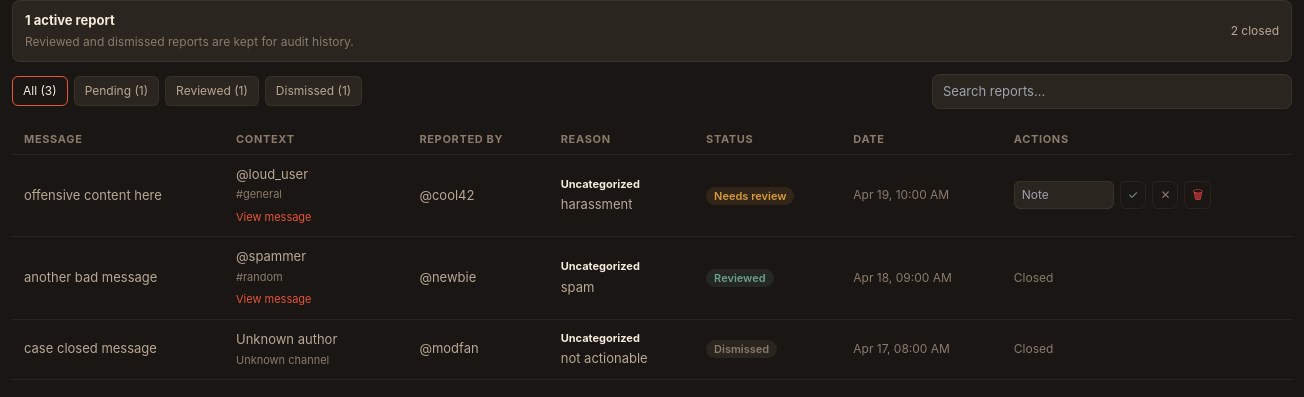
Test: ReportsTable — filtering › searches by message content
The width and height of the screenshot is (1304, 397).
Type "closed" into the field with class "report-search". click: (1112, 91)
box: [932, 74, 1292, 109]
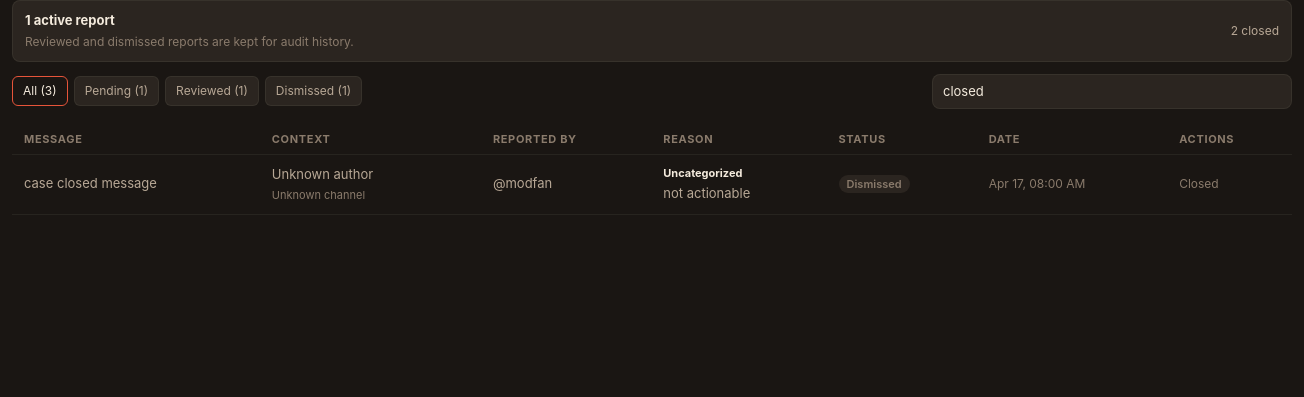
Expected: the text "case closed message" is shown, [24, 175, 157, 191]
Now the number of rows with class "report-row" is 1, box [12, 154, 1292, 214]
